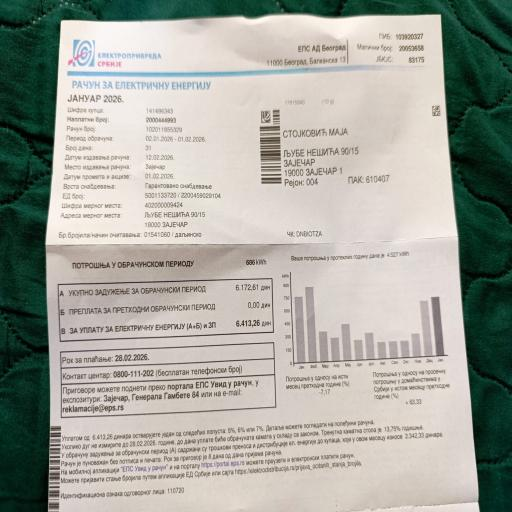racun_za_struju: (51, 240, 279, 368)
